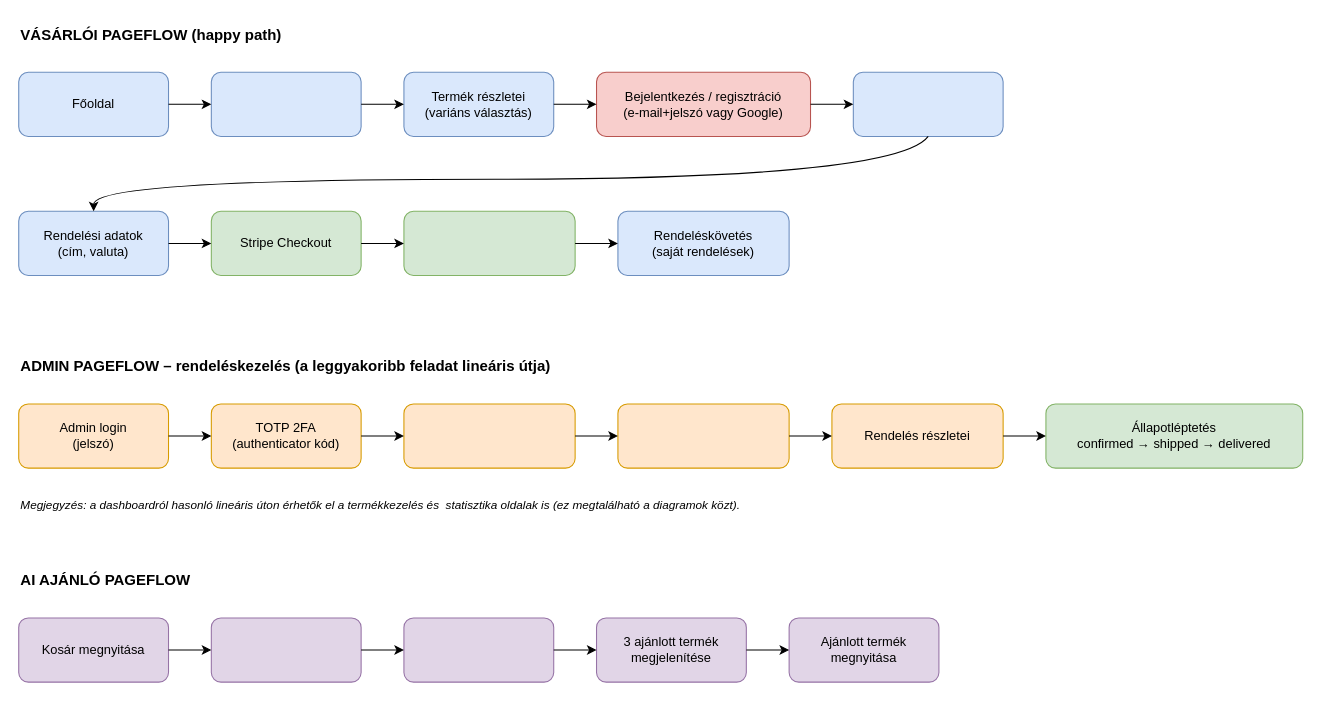
The diagram is 1321 pixels wide and 701 high, and some of its shapes have lost their labels. The centre of each missing label's shape, as x and y in pixels:
Admin dashboard: (x=489, y=435)
Claude ajánló hívás: (x=285, y=649)
Kosár: (x=927, y=103)
Kosárban lévő termékek kiszűrése: (x=478, y=649)
Rendelések listája: (x=703, y=435)
Sikeres fizetés (e-mail visszaigazolás): (x=489, y=243)
Terméklista (szűrés, keresés): (x=285, y=103)
